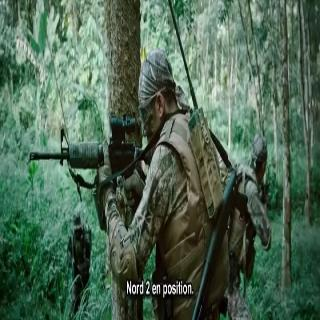gun: (30, 112, 172, 226)
